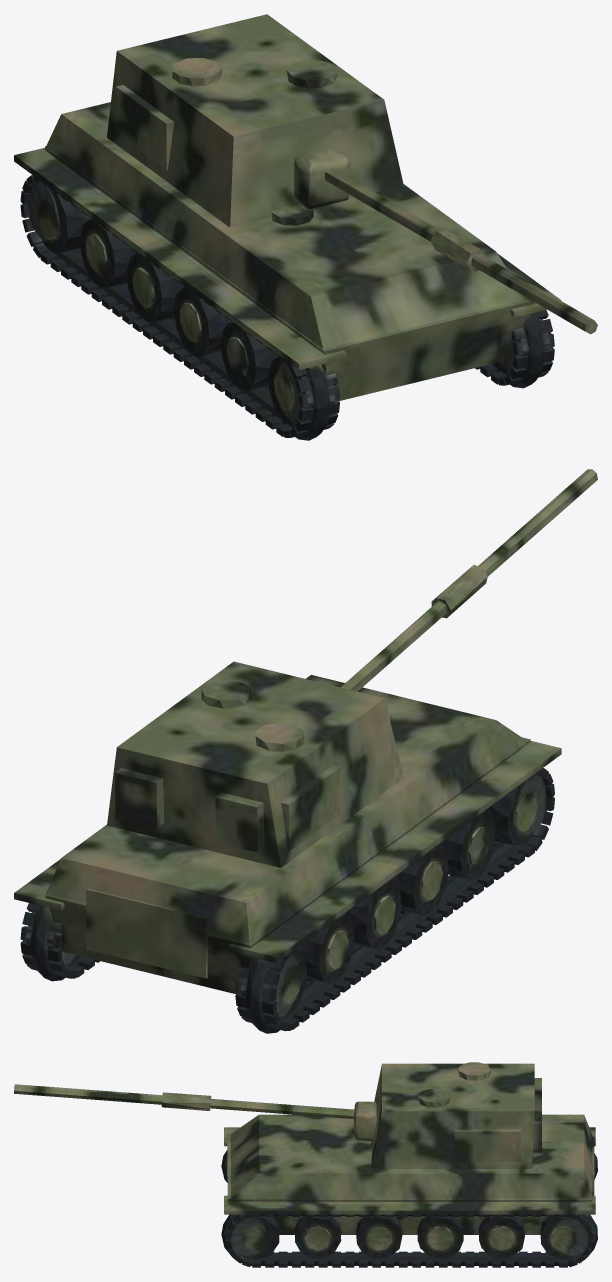
Rendered from tower_artillery_3.glb.
3 views of the same model, one above another, from view 1: azimuth 30°, elevation 25°; view 2: azimuth 150°, elevation 25°; view 3: azimuth 270°, elevation 25° (orthographic). The views are drawn at different scales.
Parts seen in each view (by area): view 1: LOW; view 2: LOW; view 3: LOW.
Part boxes in pixels (x1,y1,x2,y2): LOW: (14,14,597,440); LOW: (14,469,597,1033); LOW: (14,1062,597,1267).
Size of the model in its own units: 3.66 by 3.07 by 10.85.
Materials: 1 (1 with a texture image).
